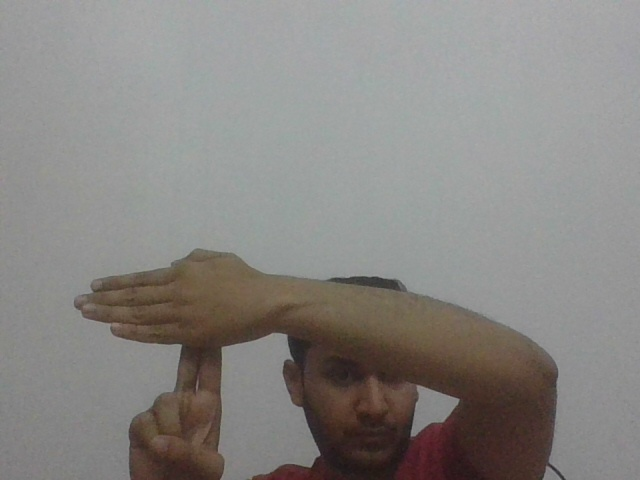N: (70, 246, 257, 395)
